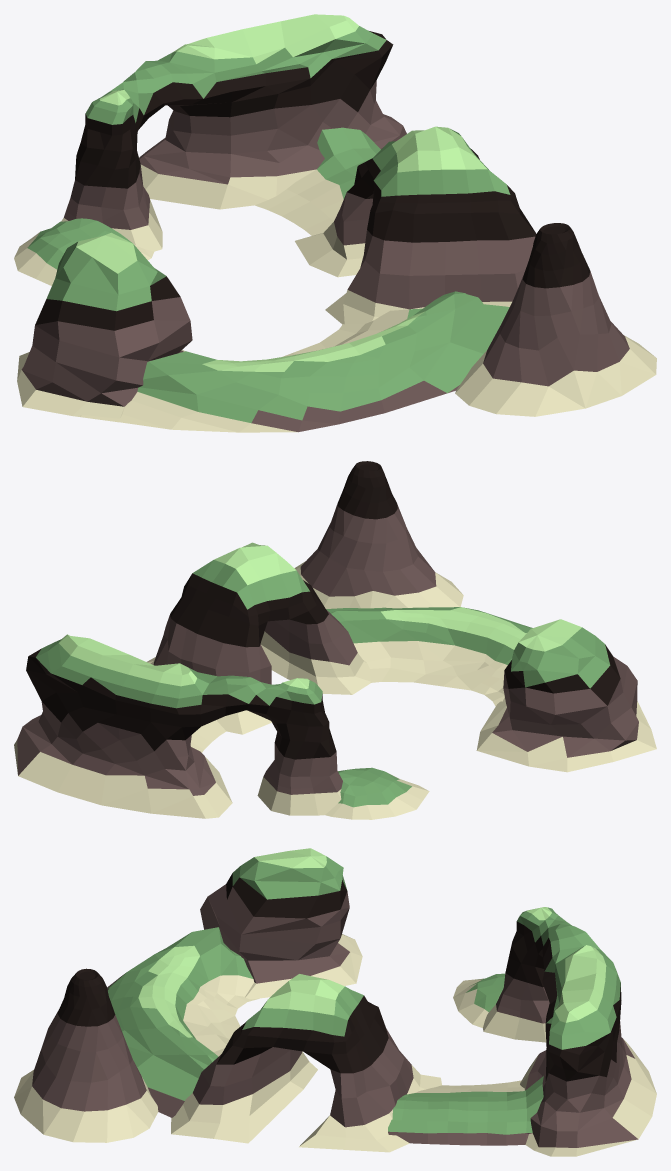
File: Island_V6.0.fbx
3 views of the same model, one above another, from view 1: azimuth 30°, elevation 25°; view 2: azimuth 150°, elevation 25°; view 3: azimuth 270°, elevation 25° (orthographic). The views are drawn at different scales.
Visible parts, largest first — view 1: Valcano.007, Valcano.001, Plane, Valcano.005, Valcano.004, Valcano.003, Valcano.006; view 2: Valcano.007, Plane, Valcano.005, Valcano.004, Valcano.001, Valcano.006, Valcano.003; view 3: Plane, Valcano.007, Valcano.001, Valcano.005, Valcano.004, Valcano.003, Valcano.006.
Boxes of the visible parts, box(x1,y1,x2,y2) form: Valcano.007: box(61, 14, 406, 251); Valcano.001: box(80, 291, 509, 432); Plane: box(295, 126, 536, 324); Valcano.005: box(17, 232, 192, 422); Valcano.004: box(455, 223, 656, 416); Valcano.003: box(255, 127, 380, 235); Valcano.006: box(14, 218, 153, 285); Valcano.007: box(14, 634, 342, 818); Plane: box(147, 542, 370, 734); Valcano.005: box(476, 619, 656, 772); Valcano.004: box(294, 461, 463, 608); Valcano.001: box(326, 607, 649, 725); Valcano.006: box(325, 767, 429, 819); Valcano.003: box(190, 720, 225, 752); Plane: box(171, 974, 441, 1152); Valcano.007: box(483, 907, 656, 1156); Valcano.001: box(107, 927, 259, 1117); Valcano.005: box(200, 848, 362, 999); Valcano.004: box(14, 968, 158, 1142); Valcano.003: box(388, 1076, 543, 1145); Valcano.006: box(453, 973, 505, 1027).
Size of the model in its own units: 6207 by 1583 by 7073.
